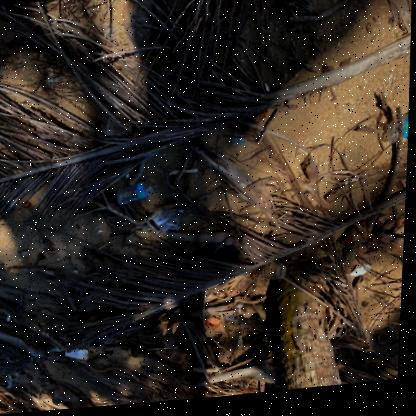Plastic: (117, 181, 159, 206), (386, 118, 410, 150), (162, 212, 181, 233), (153, 213, 170, 233), (170, 171, 198, 178), (227, 314, 241, 325)
Waste: (67, 350, 90, 361), (351, 269, 372, 281), (232, 133, 246, 149), (9, 372, 19, 388), (195, 370, 216, 375)
